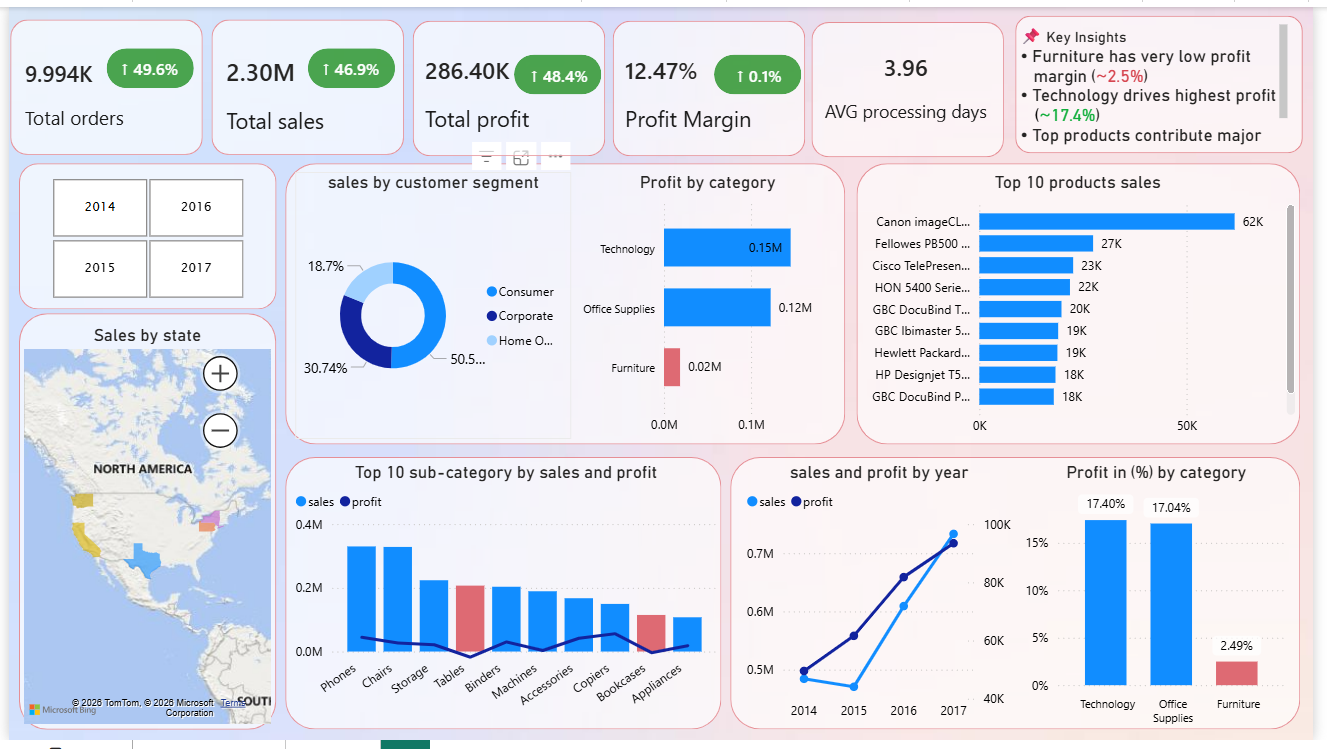

Layout of this report page (visuals, bound fields, positions):
{"tool":"powerbi","page":{"name":"Executive page","canvas":[1280,720],"ordinal":0},"visuals":[{"type":"shape","box":[708,441.7,559.5,267.5],"z":0},{"type":"shape","box":[9.6,300.5,252.5,408.9],"z":1000},{"type":"shape","box":[271.7,441.9,428.1,267.6],"z":2000},{"type":"shape","box":[831.9,153.4,435.6,276.1],"z":3000},{"type":"shape","box":[271.2,153.4,549.7,276.1],"z":4000},{"type":"shape","box":[963.2,8.6,306.8,135],"z":5000},{"type":"shape","box":[9.8,153.4,252.8,143.6],"z":6000},{"type":"lineChart","title":"sales and profit by year","fields":{"Y2":["Sum(public sales.profit)"],"Category":["public sales.sales_year"],"Y":["Sum(public sales.sales)"]},"box":[719,446.6,269.9,262.6],"z":7000},{"type":"clusteredBarChart","title":"Profit by category","fields":{"Category":["public sales.category"],"Y":["Sum(public sales.profit)"]},"box":[552.5,162.5,267.5,266.2],"z":8000},{"type":"donutChart","title":"sales by customer segment","fields":{"Category":["public sales.segment"],"Y":["Sum(public sales.sales)"]},"box":[281,162,271.2,262.6],"z":9000},{"type":"map","title":"Sales by state","fields":{"Category":["public sales.state"],"Size":["Sum(public sales.sales)"]},"box":[10,311.2,252.5,397.5],"z":10000},{"type":"lineClusteredColumnComboChart","title":"Top 10 sub-category by sales and profit","fields":{"Category":["public sales.sub_category"],"Y":["Sum(public sales.sales)"],"Y2":["Sum(public sales.profit)"]},"box":[276.2,446.2,423.8,262.5],"z":11000},{"type":"clusteredBarChart","title":"Top 10 products sales","fields":{"Category":["public sales.product_name"],"Y":["Sum(public sales.sales)"]},"box":[830.7,162,436.8,267.5],"z":12000},{"type":"slicer","fields":{"Values":["public sales.sales_year"]},"box":[17.2,162,236.8,130.1],"z":13000},{"type":"shape","box":[9.8,24.5,179.1,117.8],"z":14000},{"type":"cardVisual","fields":{"Data":["CountNonNull(public sales.order_id)"]},"box":[9.8,24.5,179.1,117.8],"z":15000},{"type":"lineStackedColumnComboChart","title":"Profit by category","fields":{"Category":["public sales.category"],"Y":["public sales.Profit Margin"]},"box":[992.6,446.6,267.5,266.3],"z":16000},{"type":"shape","box":[201.2,24.5,179.1,117.8],"z":17000},{"type":"shape","box":[396.3,24.5,179.1,117.8],"z":18000},{"type":"shape","box":[775.5,24.5,179.1,117.8],"z":19000},{"type":"shape","box":[585.3,24.5,179.1,117.8],"z":20000},{"type":"cardVisual","fields":{"Data":["public sales.Profit Margin"]},"box":[585.3,24.5,179.1,117.8],"z":21000},{"type":"cardVisual","fields":{"Data":["Avg(public sales.processing_days)"]},"box":[775.5,24.5,179.1,117.8],"z":22000},{"type":"cardVisual","fields":{"Data":["Sum(public sales.profit)"]},"box":[396.3,24.5,179.1,117.8],"z":23000},{"type":"cardVisual","fields":{"Data":["Sum(public sales.sales)"]},"box":[201.2,24.5,179.1,117.8],"z":24000},{"type":"textbox","box":[966.9,12.3,293.3,130.1],"z":25000}]}

Visuals, with their boxes in screenshot pixels (x1, y1, x2, y2), scaled from the page's 1280x720 canvas onto the 1327x749 screenshot:
shape: <bbox>734, 459, 1314, 738</bbox>
shape: <bbox>10, 313, 272, 738</bbox>
shape: <bbox>282, 460, 725, 738</bbox>
shape: <bbox>862, 160, 1314, 447</bbox>
shape: <bbox>281, 160, 851, 447</bbox>
shape: <bbox>999, 9, 1317, 149</bbox>
shape: <bbox>10, 160, 272, 309</bbox>
"sales and profit by year" lineChart: <bbox>745, 465, 1025, 738</bbox>
"Profit by category" clusteredBarChart: <bbox>573, 169, 850, 446</bbox>
"sales by customer segment" donutChart: <bbox>291, 169, 572, 442</bbox>
"Sales by state" map: <bbox>10, 324, 272, 737</bbox>
"Top 10 sub-category by sales and profit" lineClusteredColumnComboChart: <bbox>286, 464, 726, 737</bbox>
"Top 10 products sales" clusteredBarChart: <bbox>861, 169, 1314, 447</bbox>
slicer - public sales.sales_year: <bbox>18, 169, 263, 304</bbox>
shape: <bbox>10, 25, 196, 148</bbox>
cardVisual - CountNonNull(public sales.order_id): <bbox>10, 25, 196, 148</bbox>
"Profit by category" lineStackedColumnComboChart: <bbox>1029, 465, 1306, 742</bbox>
shape: <bbox>209, 25, 394, 148</bbox>
shape: <bbox>411, 25, 597, 148</bbox>
shape: <bbox>804, 25, 990, 148</bbox>
shape: <bbox>607, 25, 792, 148</bbox>
cardVisual - public sales.Profit Margin: <bbox>607, 25, 792, 148</bbox>
cardVisual - Avg(public sales.processing_days): <bbox>804, 25, 990, 148</bbox>
cardVisual - Sum(public sales.profit): <bbox>411, 25, 597, 148</bbox>
cardVisual - Sum(public sales.sales): <bbox>209, 25, 394, 148</bbox>
textbox: <bbox>1002, 13, 1306, 148</bbox>
